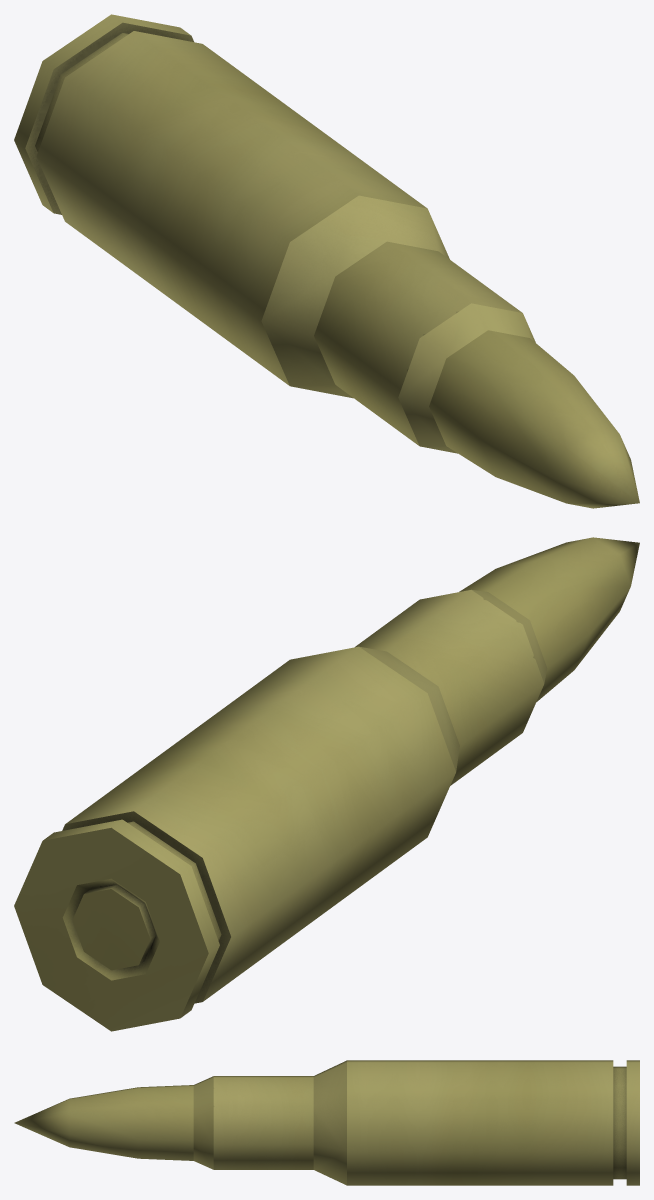
The model's file is minigun_bullet_low.fbx.
3 renders of one model, top to bottom at view 1: azimuth 30°, elevation 25°; view 2: azimuth 150°, elevation 25°; view 3: azimuth 270°, elevation 25°, orthographic. The views are drawn at different scales.
Visible parts, largest first — view 1: minigun_bullet_shell_low, minigun_bullet_low; view 2: minigun_bullet_shell_low, minigun_bullet_low; view 3: minigun_bullet_shell_low, minigun_bullet_low.
Part boxes in pixels (x1,y1,x2,y2): minigun_bullet_shell_low: (14,14,535,453); minigun_bullet_low: (429,330,639,508); minigun_bullet_shell_low: (14,589,547,1031); minigun_bullet_low: (459,537,639,701); minigun_bullet_shell_low: (193,1060,639,1185); minigun_bullet_low: (14,1085,193,1160).
Bounding box in the file's own units: 2.55 × 2.55 × 11.99.
